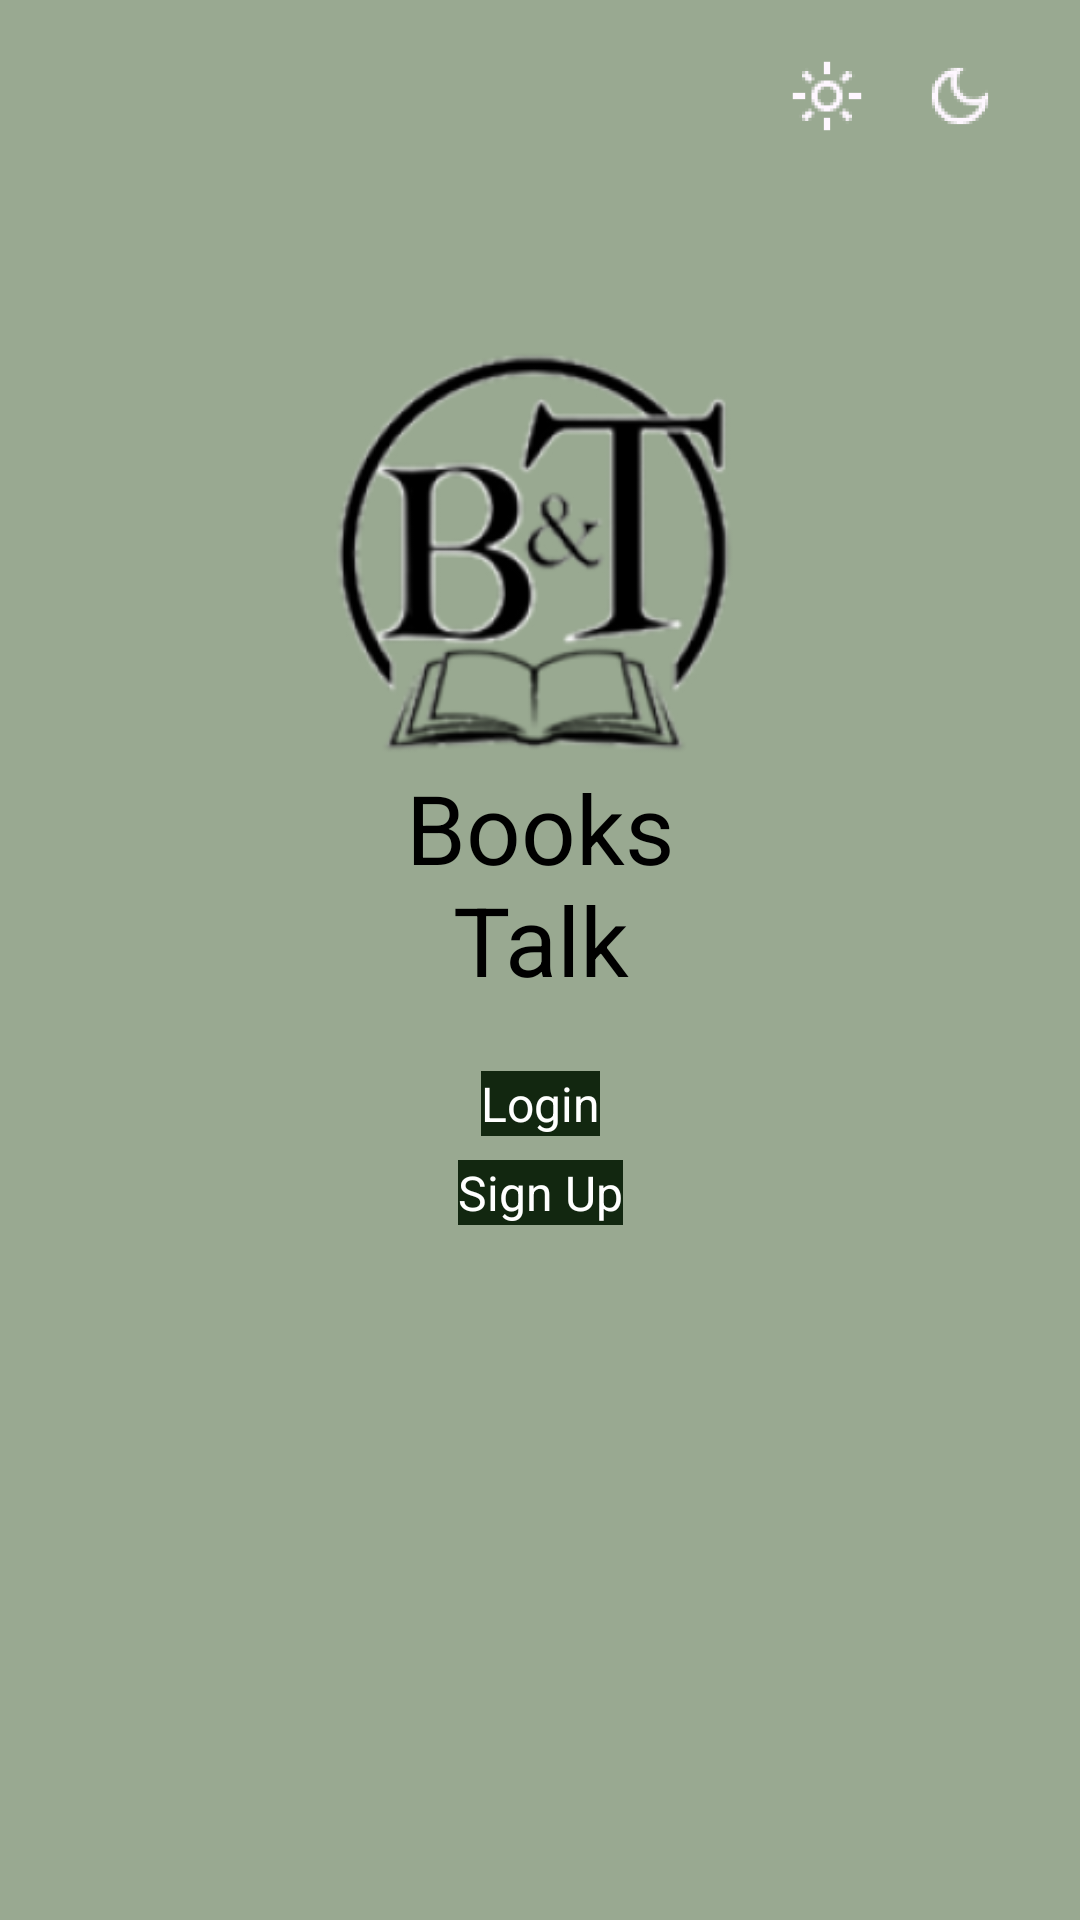

Screen size 1080w x 1920h. Icon name, then its box in pixels as detection(x1, y1, x2, y2):
mode: detection(793, 62, 861, 130), detection(932, 68, 988, 124)
